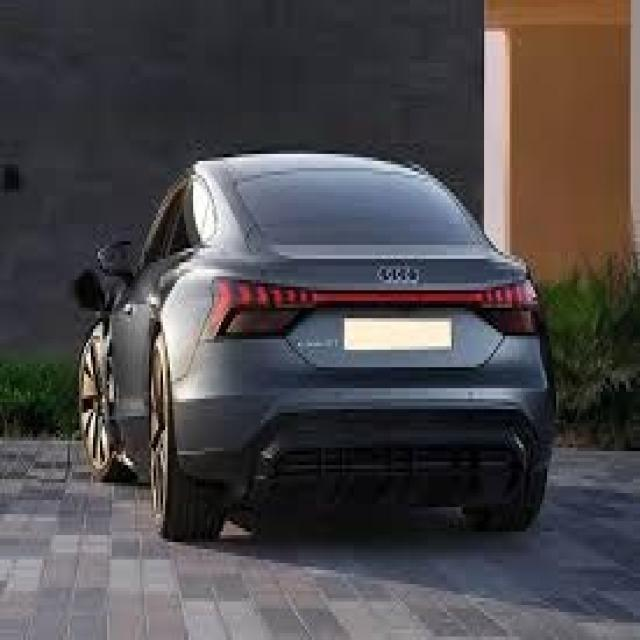black: (77, 152, 557, 561)
